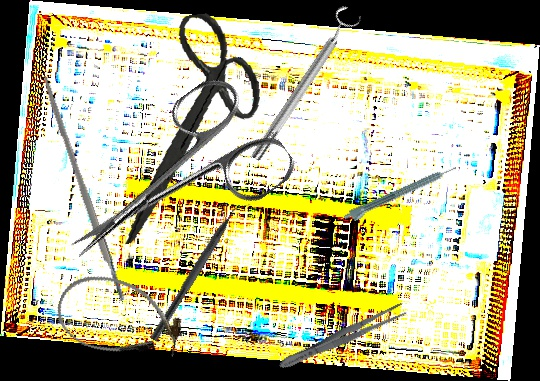Cannula: (48, 264, 191, 373)
Chopper: (150, 195, 252, 348)
Dressing Forceps: (275, 299, 409, 375)
Fixation Ring: (241, 3, 366, 166)
Handpiece: (342, 163, 460, 227)
Iris Scissors: (39, 65, 301, 306), (97, 7, 278, 245)
Scalpel Handle: (39, 75, 127, 303)
